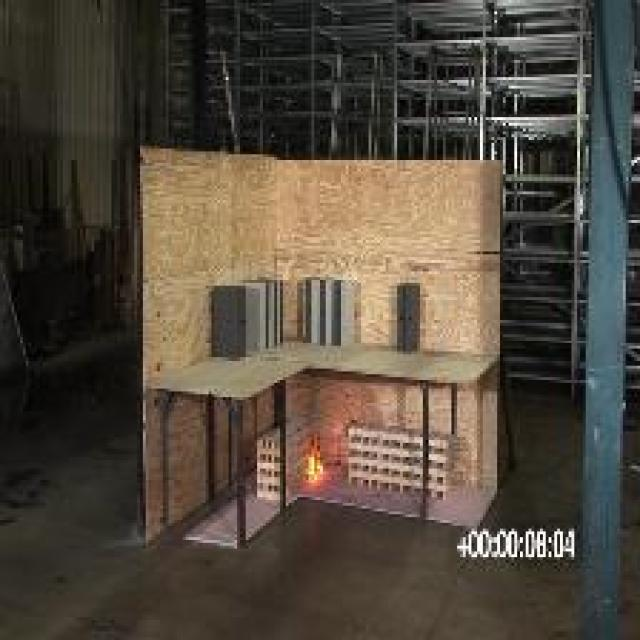fire: (295, 435, 327, 492)
